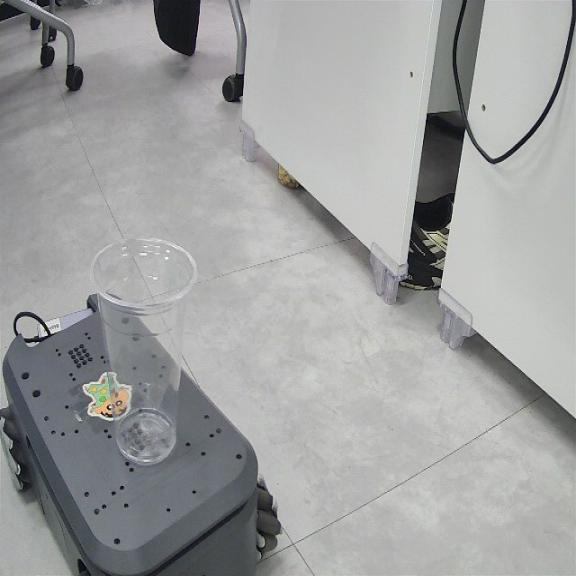Plastik: (92, 238, 196, 464)
